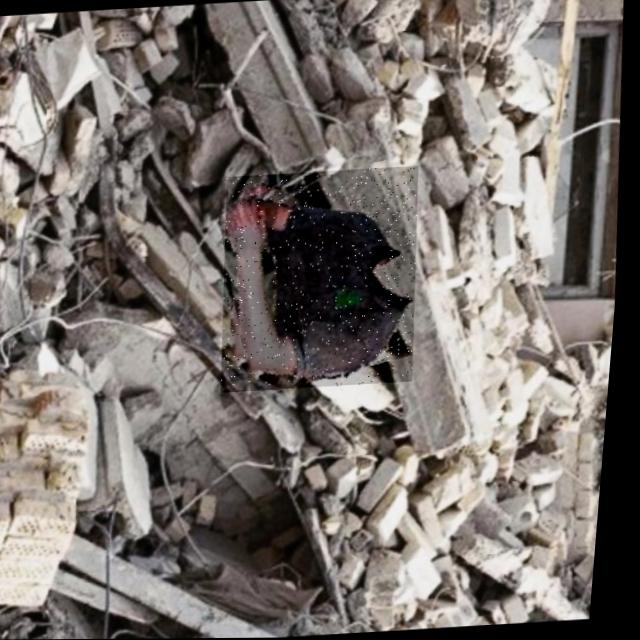Person in Rubble: (215, 166, 432, 394)
